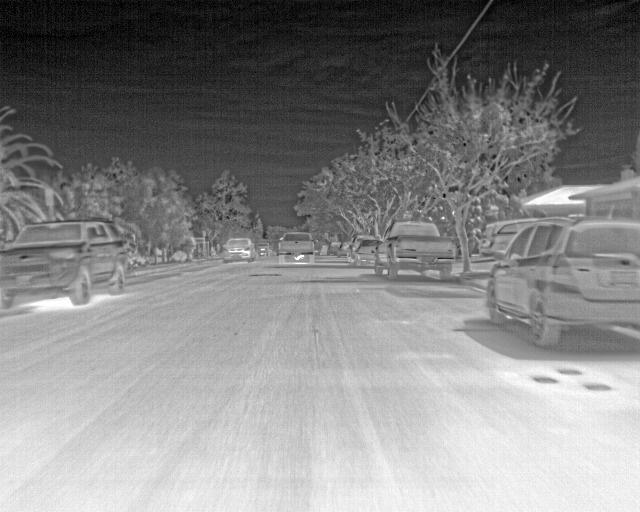car: (486, 218, 639, 350), (0, 219, 131, 307), (373, 221, 457, 280), (477, 220, 535, 262), (276, 230, 316, 265), (222, 236, 255, 263), (353, 239, 379, 266), (346, 239, 358, 259), (256, 242, 273, 256)
